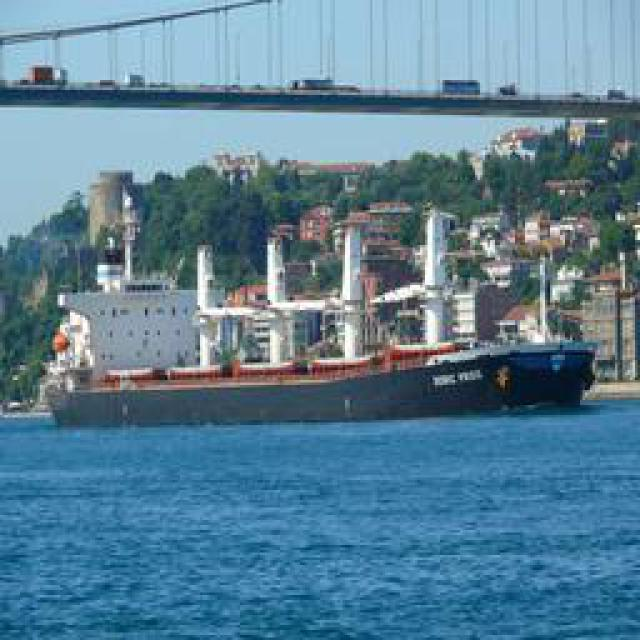Ship: (37, 274, 617, 429)
